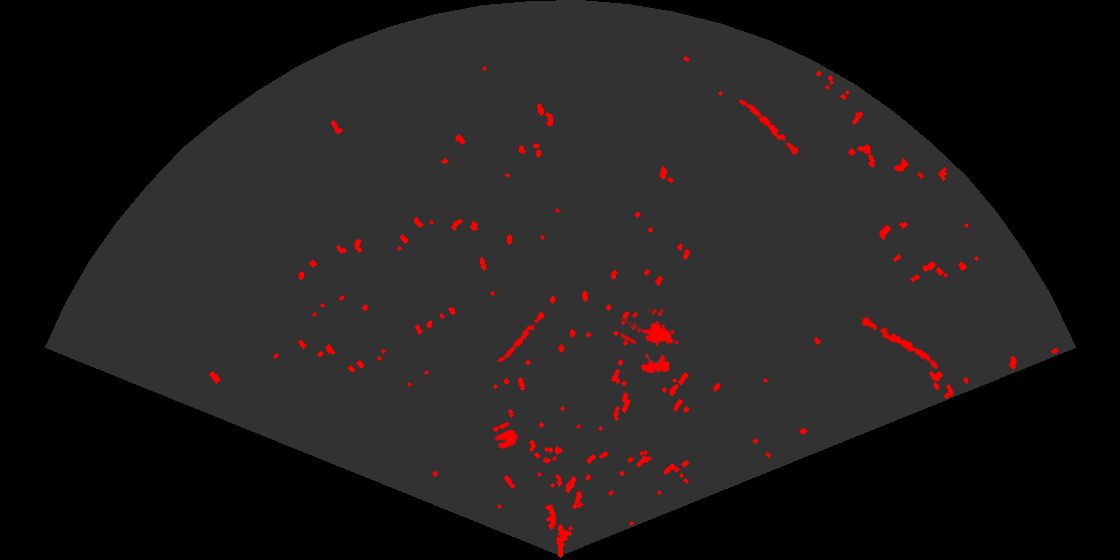ball: (491, 420, 520, 451)
cage: (621, 309, 680, 375)
chain: (856, 314, 940, 371), (737, 98, 808, 161), (493, 307, 551, 370)
